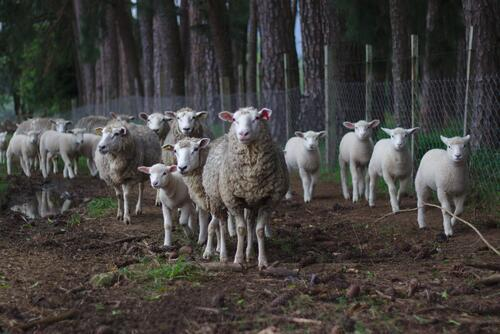sheep: (202, 106, 290, 271), (160, 137, 272, 245), (94, 119, 162, 226), (414, 135, 471, 237), (137, 164, 196, 247), (368, 127, 421, 214), (339, 120, 380, 203), (284, 130, 328, 203), (161, 107, 216, 165), (39, 127, 87, 179), (6, 130, 41, 177), (74, 112, 135, 137), (15, 116, 73, 138), (138, 111, 174, 145)
